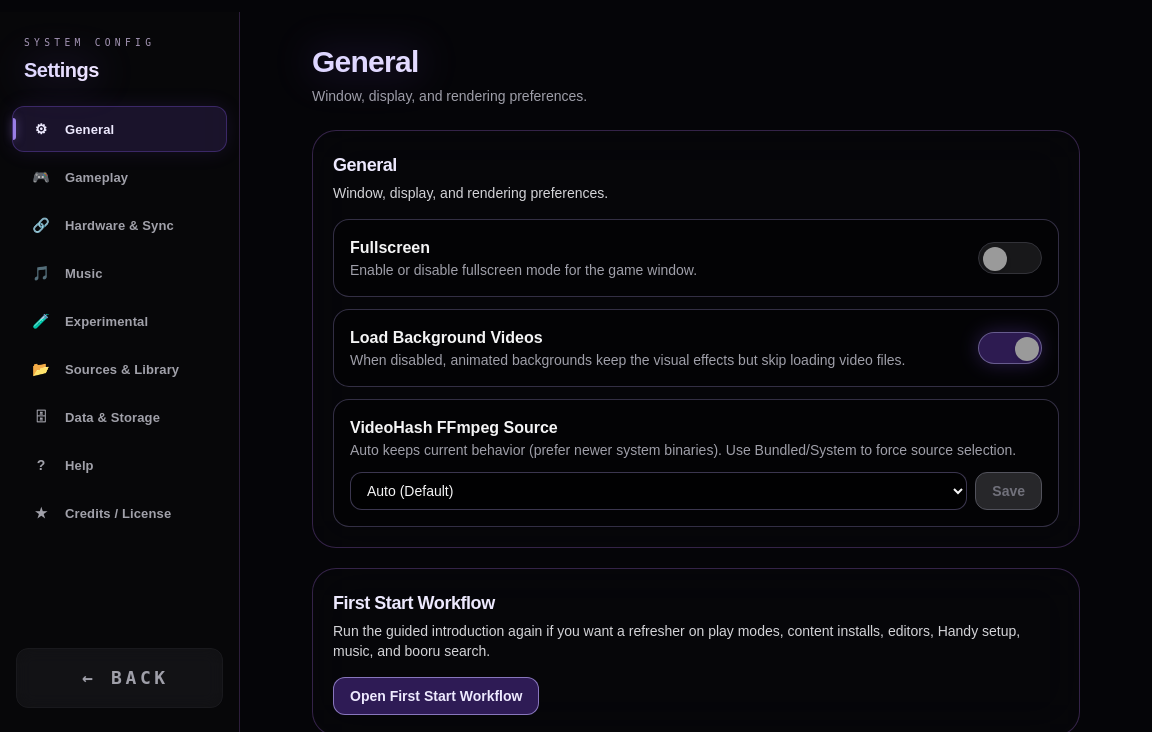
Settings music section › renders a help section with documented keyboard shortcut groups
The image size is (1152, 732).
Click the button "? Help": (120, 465) [12,442,227,488]
(page scrolled)
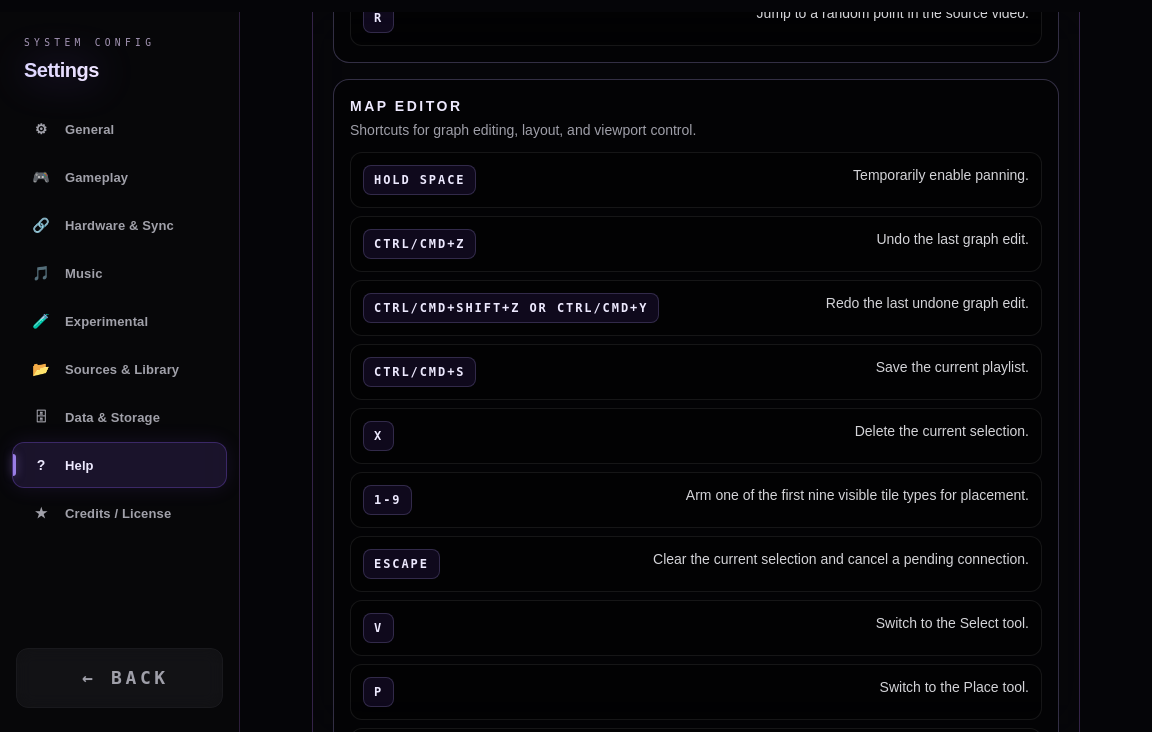
Result: the heading "Map Editor" is shown at [350,98,463,114]
Result: the text "Ctrl/Cmd+S" is shown at [363,357,476,387]
